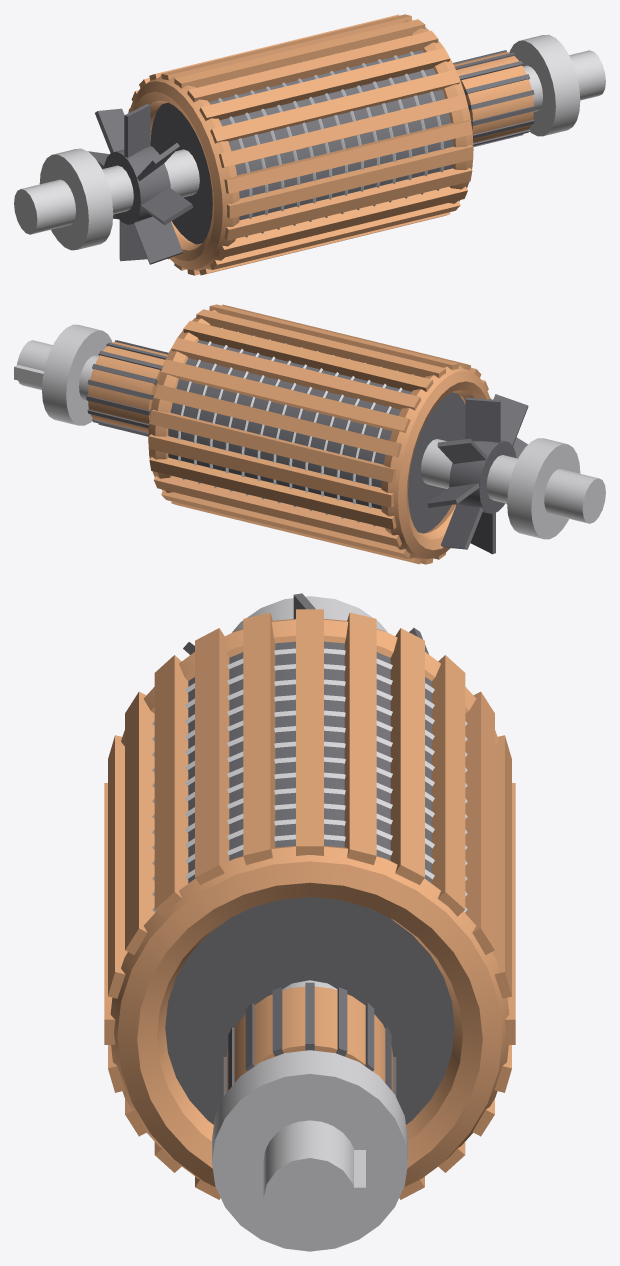
File: SM_MotorRotor.fbx
3 views of the same model, one above another, from view 1: azimuth 30°, elevation 25°; view 2: azimuth 150°, elevation 25°; view 3: azimuth 270°, elevation 25° (orthographic). The views are drawn at different scales.
Visible parts, largest first — view 1: SM_MotorRotor; view 2: SM_MotorRotor; view 3: SM_MotorRotor.
Part boxes in pixels (x1,y1,x2,y2): SM_MotorRotor: [14, 14, 605, 275]; SM_MotorRotor: [14, 304, 605, 564]; SM_MotorRotor: [104, 593, 515, 1251].
Bounding box in the file's own units: 0.56 × 0.176 × 0.176.
